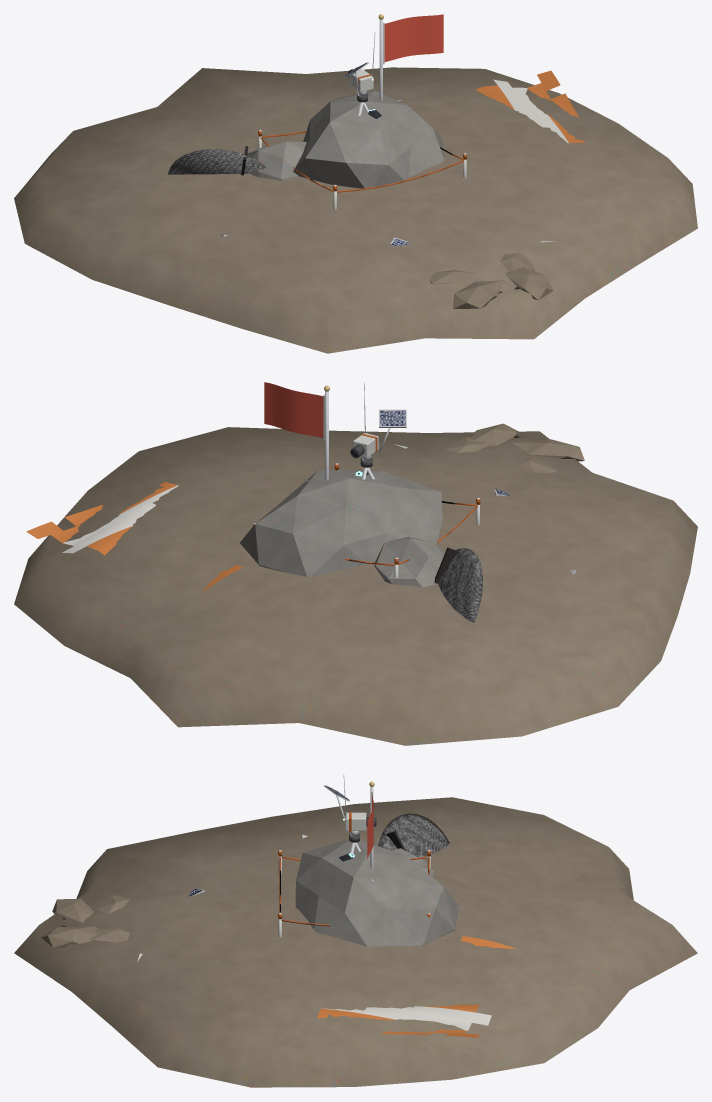
Rendered from mission_props.glb.
The picture shows the model from 3 angles, top to bottom: view 1: azimuth 30°, elevation 25°; view 2: azimuth 150°, elevation 25°; view 3: azimuth 270°, elevation 25°; orthographic projection. The views are drawn at different scales.
Visible parts, largest first — view 1: probe_wreck, signal_source, survey_marker, photo_point; view 2: probe_wreck, signal_source, survey_marker, photo_point; view 3: probe_wreck, signal_source, survey_marker, photo_point.
Part boxes in pixels (x1,y1,x2,y2): probe_wreck: (14,67,697,353); signal_source: (247,90,480,188); survey_marker: (258,14,466,209); photo_point: (343,32,375,115); probe_wreck: (14,423,697,745); signal_source: (240,470,445,587); survey_marker: (253,382,480,578); photo_point: (350,382,406,479); probe_wreck: (14,797,697,1087); signal_source: (295,839,459,953); survey_marker: (278,781,430,937); photo_point: (324,774,376,853).
Size of the model in its own units: 9.19 by 3.36 by 9.75.
20 materials, 9 textured.
